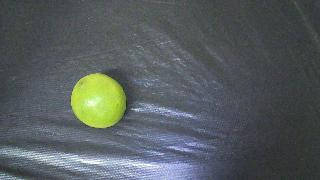LOCAL: (71, 73, 126, 128)
